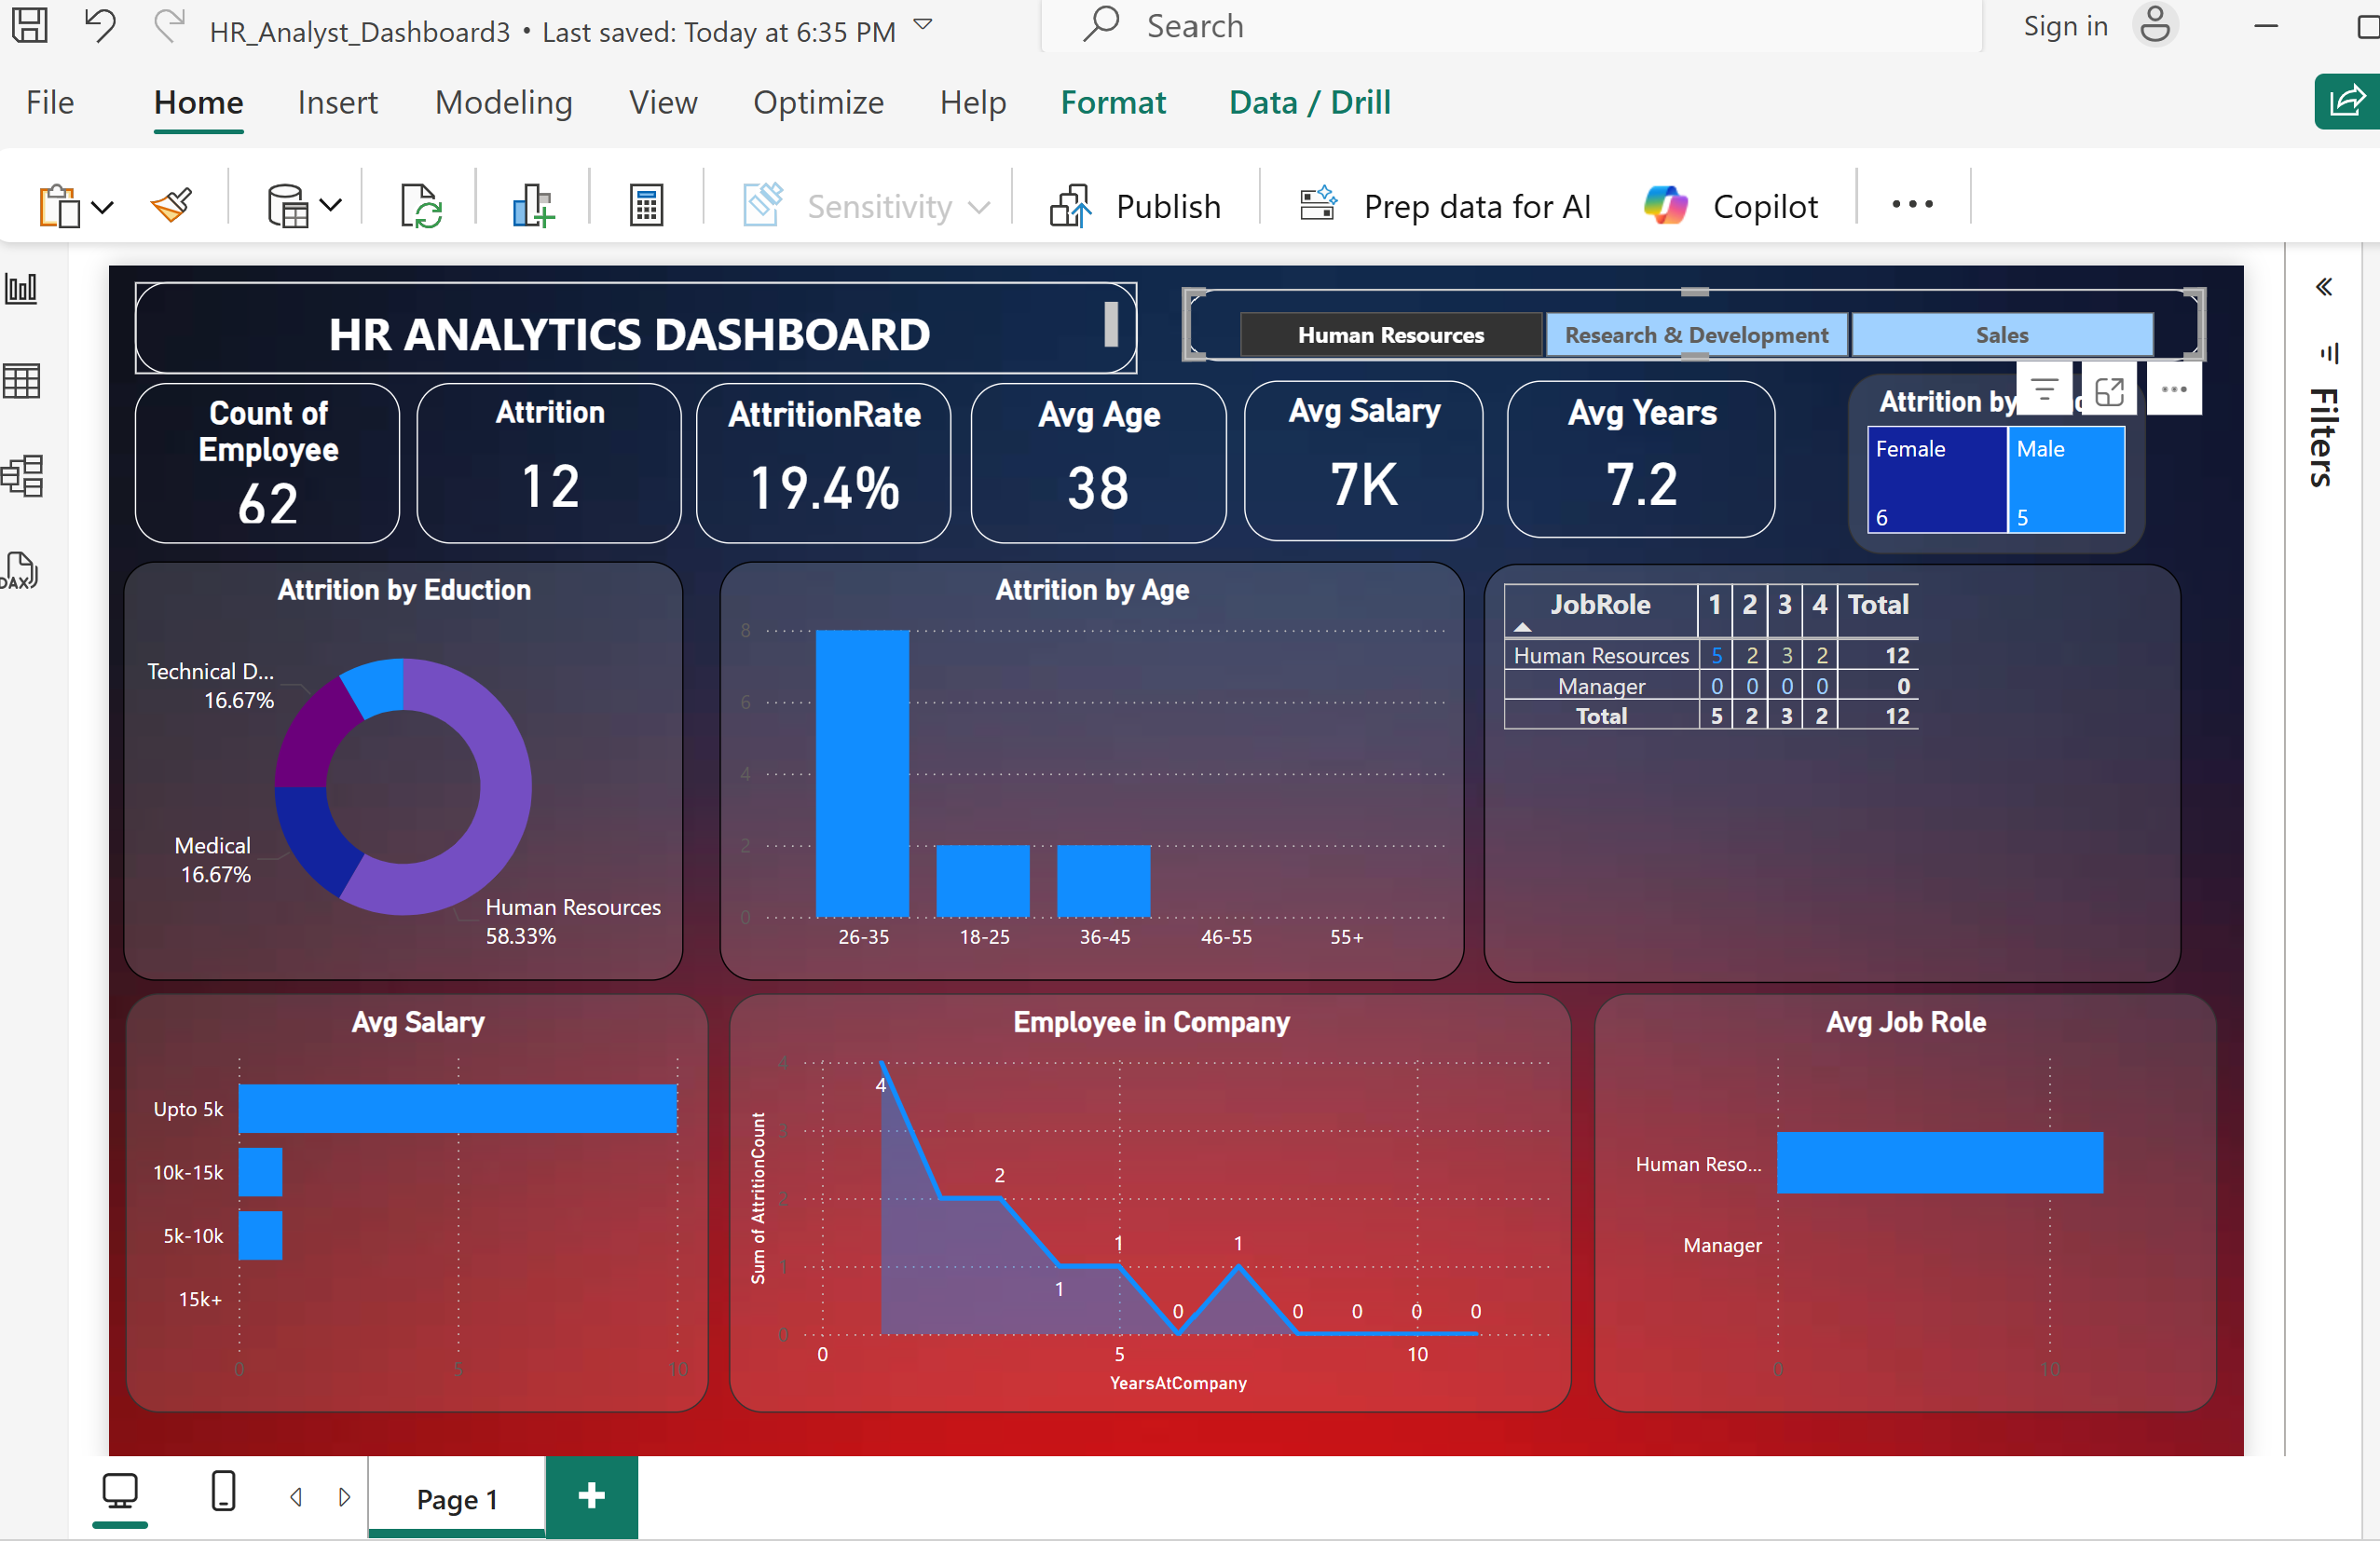

The page's visual inventory and layout, read from the dashboard file:
{"tool":"powerbi","page":{"name":"Page 1","canvas":[1280,720],"ordinal":0},"visuals":[{"type":"card","title":"Count of Employee","fields":{"Values":["CountNonNull(HR_Analytics.EmpID)"]},"box":[15.7,70.7,159.3,96.3],"z":0},{"type":"card","title":"Attrition","fields":{"Values":["Sum(HR_Analytics.AttritionCount)"]},"box":[184.8,70.7,159.3,96.4],"z":1000},{"type":"card","title":"Avg Age","fields":{"Values":["Avg(HR_Analytics.Age)"]},"box":[517.2,70.7,153.4,96.3],"z":2000},{"type":"card","title":"Avg Salary","fields":{"Values":["Avg(HR_Analytics.MonthlyIncome)"]},"box":[680.4,68.8,143.5,96.3],"z":3000},{"type":"card","title":"AttritionRate","fields":{"Values":["HR_Analytics.AttritionRate"]},"box":[352,70.7,153.4,96.3],"z":4000},{"type":"card","title":"Avg Years","fields":{"Values":["Avg(HR_Analytics.YearsAtCompany)"]},"box":[837.7,68.8,161.2,94.4],"z":5000},{"type":"donutChart","title":"Attrition by Eduction","fields":{"Category":["HR_Analytics.EducationField"],"Y":["Sum(HR_Analytics.AttritionCount)"]},"box":[7.9,177,336.2,251.7],"z":6000},{"type":"columnChart","title":"Attrition by Age","fields":{"Category":["HR_Analytics.AgeGroup"],"Y":["Sum(HR_Analytics.AttritionCount)"]},"box":[365.7,177,446.4,251.7],"z":7000},{"type":"pivotTable","fields":{"Rows":["HR_Analytics.JobRole"],"Columns":["HR_Analytics.JobSatisfaction"],"Values":["Sum(HR_Analytics.AttritionCount)"]},"box":[823.9,178.9,418.8,251.7],"z":8000},{"type":"barChart","title":"Avg Salary","fields":{"Category":["HR_Analytics.SalarySlab"],"Y":["Sum(HR_Analytics.AttritionCount)"]},"box":[9.8,436.5,350,251.7],"z":8001},{"type":"barChart","title":"Avg Job Role","fields":{"Y":["Sum(HR_Analytics.AttritionCount)"],"Category":["HR_Analytics.JobRole"]},"box":[890.8,436.5,373.6,251.7],"z":8002},{"type":"areaChart","title":"Employee in Company","fields":{"Category":["HR_Analytics.YearsAtCompany"],"Y":["Sum(HR_Analytics.AttritionCount)"]},"box":[371.6,436.5,505.4,251.7],"z":8003},{"type":"treemap","title":"Attrition by Gender","fields":{"Group":["HR_Analytics.Gender"],"Values":["Sum(HR_Analytics.AttritionCount)"]},"box":[1042.2,64.9,178.9,108.1],"z":8004},{"type":"slicer","fields":{"Values":["HR_Analytics.Department"]},"box":[645,13.8,611.5,43.3],"z":8005},{"type":"textbox","box":[15.7,9.8,601.7,55.1],"z":8006}]}

Visuals, with their boxes on the page's 1280x720 design canvas (x1, y1, x2, y2). These are canvas units, not pixel positions in the 2380x1541 screenshot, which may show the page scaled, cropped or inside an application window:
"Count of Employee" card: left=16, top=71, right=175, bottom=167
"Attrition" card: left=185, top=71, right=344, bottom=167
"Avg Age" card: left=517, top=71, right=671, bottom=167
"Avg Salary" card: left=680, top=69, right=824, bottom=165
"AttritionRate" card: left=352, top=71, right=505, bottom=167
"Avg Years" card: left=838, top=69, right=999, bottom=163
"Attrition by Eduction" donutChart: left=8, top=177, right=344, bottom=429
"Attrition by Age" columnChart: left=366, top=177, right=812, bottom=429
pivotTable - HR_Analytics.JobRole x HR_Analytics.JobSatisfaction: left=824, top=179, right=1243, bottom=431
"Avg Salary" barChart: left=10, top=436, right=360, bottom=688
"Avg Job Role" barChart: left=891, top=436, right=1264, bottom=688
"Employee in Company" areaChart: left=372, top=436, right=877, bottom=688
"Attrition by Gender" treemap: left=1042, top=65, right=1221, bottom=173
slicer - HR_Analytics.Department: left=645, top=14, right=1256, bottom=57
textbox: left=16, top=10, right=617, bottom=65
